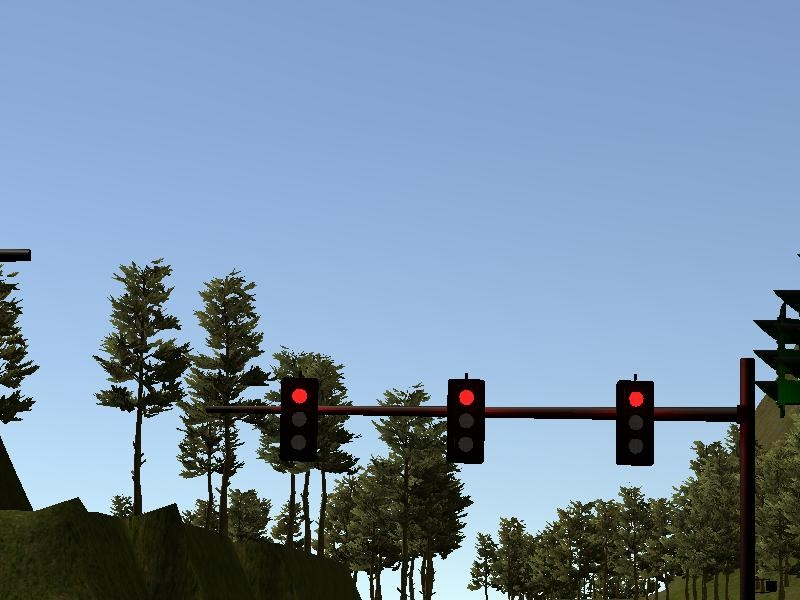Red: (615, 379, 655, 466), (447, 378, 484, 464), (281, 378, 316, 461)
